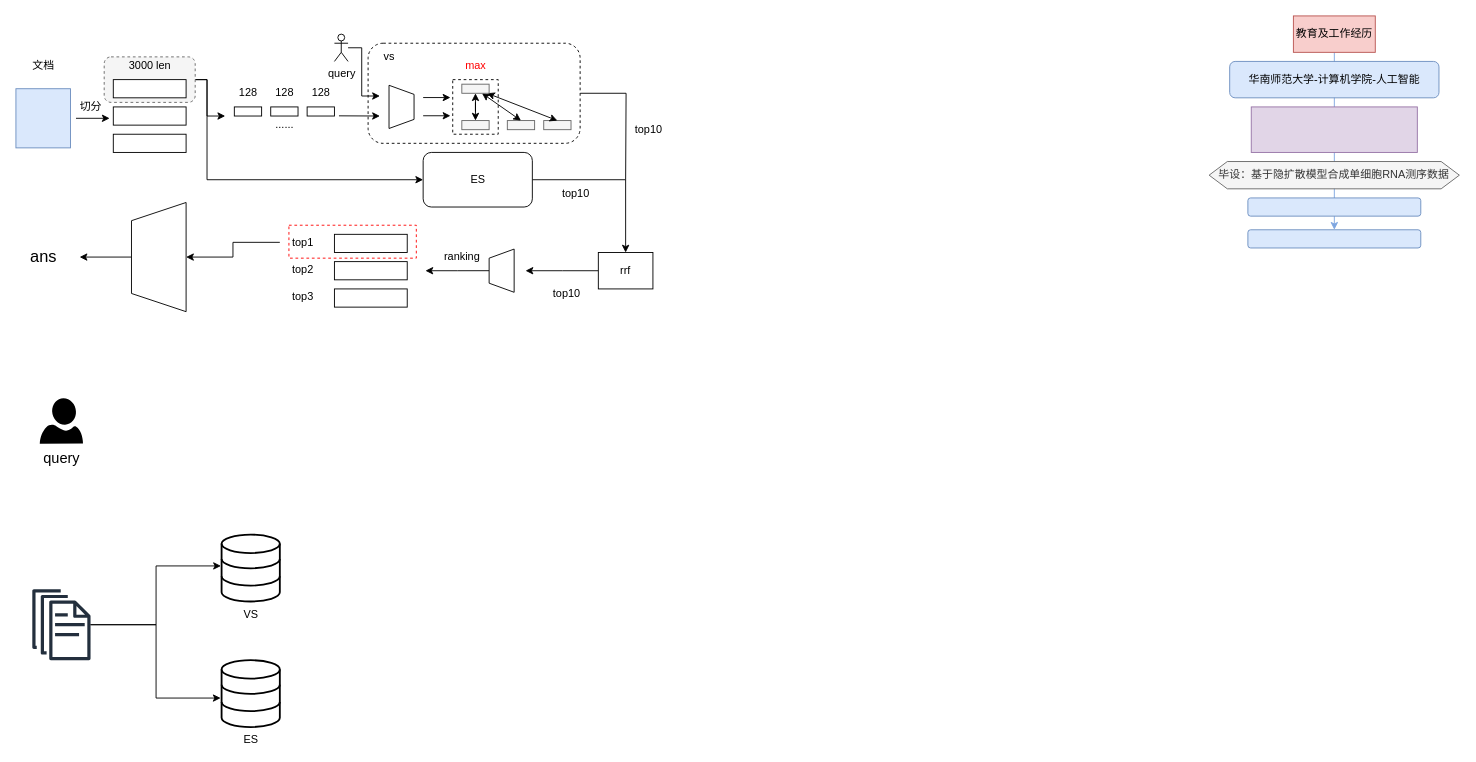
This 1476x762 diagram has some shape labels left out. Each missing label, with the box of its shape:
LLM: (131, 202, 186, 312)
华为昇思mindspore开源实习 （优秀实习生，资深开发者认证）: (1250, 106, 1417, 152)
华师-港科广联合实验室RA: (1247, 229, 1421, 248)
南方测绘广州分公司--算法工程师: (1247, 197, 1421, 216)
